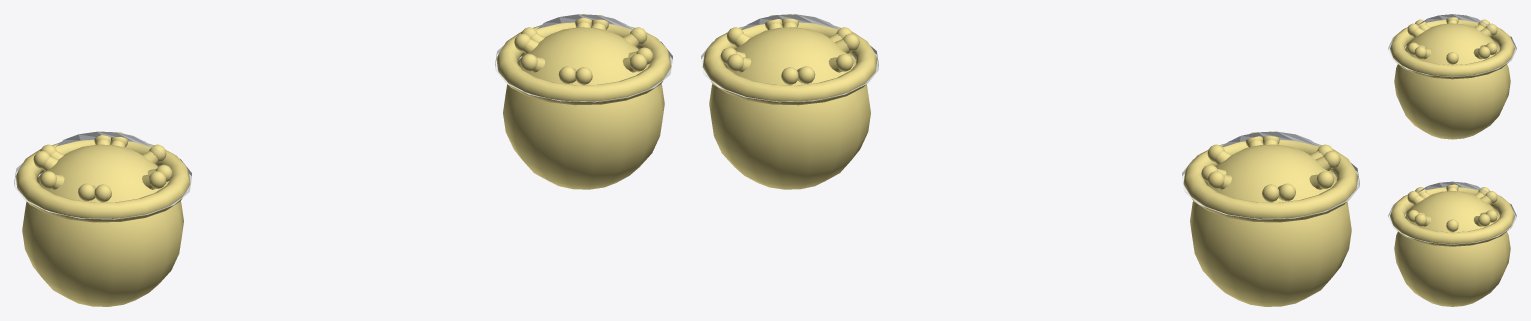
Rendered from earrings.glb.
3 views of the same model, side by side, from view 1: azimuth 30°, elevation 25°; view 2: azimuth 150°, elevation 25°; view 3: azimuth 270°, elevation 25° (orthographic). The views are drawn at different scales.
Parts seen in each view (by area): view 1: Band_R, Band_L, Setting_BEZEL_L, Setting_BEZEL_R, Setting_6_PRONG_L, Setting_6_PRONG_R, Setting_4_PRONG_R, Setting_4_PRONG_L, Stone_R, Stone_L; view 2: Band_R, Band_L, Setting_BEZEL_L, Setting_BEZEL_R, Setting_6_PRONG_L, Setting_6_PRONG_R, Setting_4_PRONG_L, Setting_4_PRONG_R, Stone_L, Stone_R; view 3: Band_R, Band_L, Setting_BEZEL_L, Setting_BEZEL_R, Setting_6_PRONG_L, Setting_6_PRONG_R, Stone_L, Stone_R, Setting_4_PRONG_L, Setting_4_PRONG_R.
Boxes of the visible parts, x1,y1,x2,y2 form: Band_R: (503,27,664,189); Band_L: (22,144,183,306); Setting_BEZEL_L: (15,140,190,222); Setting_BEZEL_R: (496,22,671,105); Setting_6_PRONG_L: (39,131,166,202); Setting_6_PRONG_R: (520,14,647,84); Setting_4_PRONG_R: (514,15,653,83); Setting_4_PRONG_L: (33,132,172,201); Stone_R: (495,14,672,102); Stone_L: (14,131,191,219); Band_R: (709,27,870,189); Band_L: (1190,144,1351,306); Setting_BEZEL_L: (1183,140,1358,222); Setting_BEZEL_R: (702,22,877,105); Setting_6_PRONG_L: (1207,131,1334,202); Setting_6_PRONG_R: (726,14,853,84); Setting_4_PRONG_L: (1201,132,1340,201); Setting_4_PRONG_R: (720,15,859,83); Stone_L: (1182,131,1359,219); Stone_R: (701,14,878,102); Band_R: (1394,191,1510,306); Band_L: (1394,23,1510,139); Setting_BEZEL_L: (1390,20,1514,79); Setting_BEZEL_R: (1390,187,1514,246); Setting_6_PRONG_L: (1407,14,1497,64); Setting_6_PRONG_R: (1407,184,1497,231); Stone_L: (1388,14,1516,77); Stone_R: (1388,181,1516,244); Setting_4_PRONG_L: (1414,19,1490,59); Setting_4_PRONG_R: (1414,187,1490,226).
Bounding box in the file's own units: 0.9 × 0.2 × 0.22.
